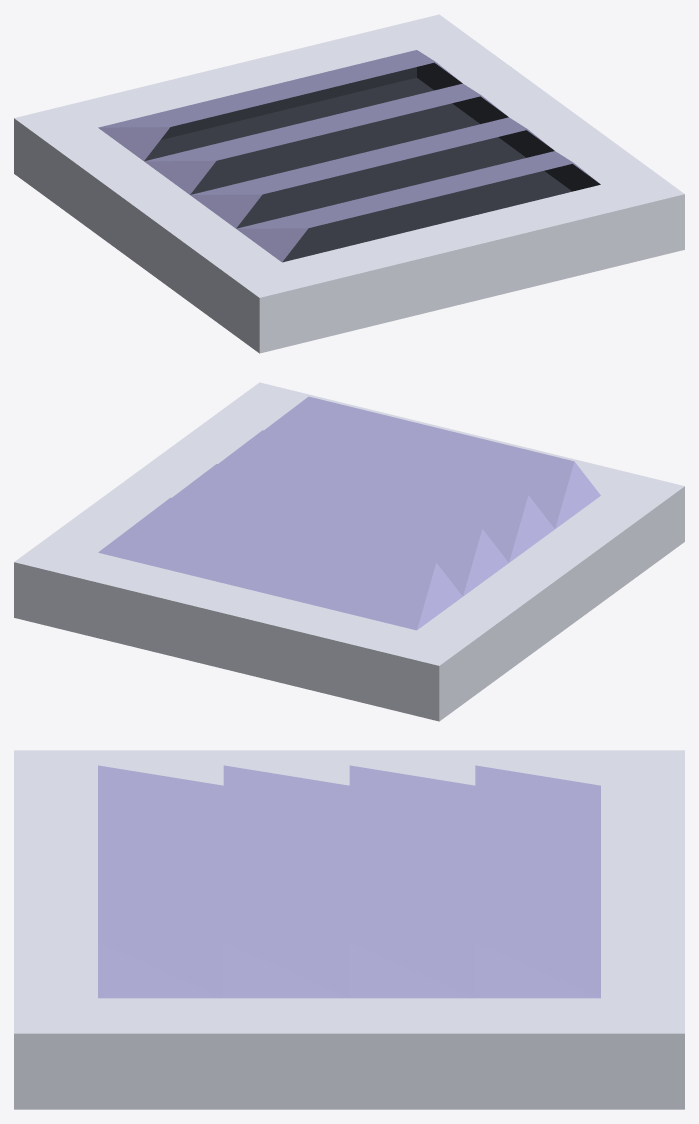
Rendered from vents.fbx.
The picture shows the model from 3 angles, top to bottom: view 1: azimuth 30°, elevation 25°; view 2: azimuth 150°, elevation 25°; view 3: azimuth 270°, elevation 25°; orthographic projection. The views are drawn at different scales.
Parts seen in each view (by area): view 1: mergedBlocks; view 2: mergedBlocks; view 3: mergedBlocks.
Boxes of the visible parts, left/top/right/bottom form: mergedBlocks: left=14, top=14, right=684, bottom=353; mergedBlocks: left=14, top=382, right=684, bottom=721; mergedBlocks: left=14, top=750, right=684, bottom=1109.
Size of the model in its own units: 8 by 1.5 by 8.
